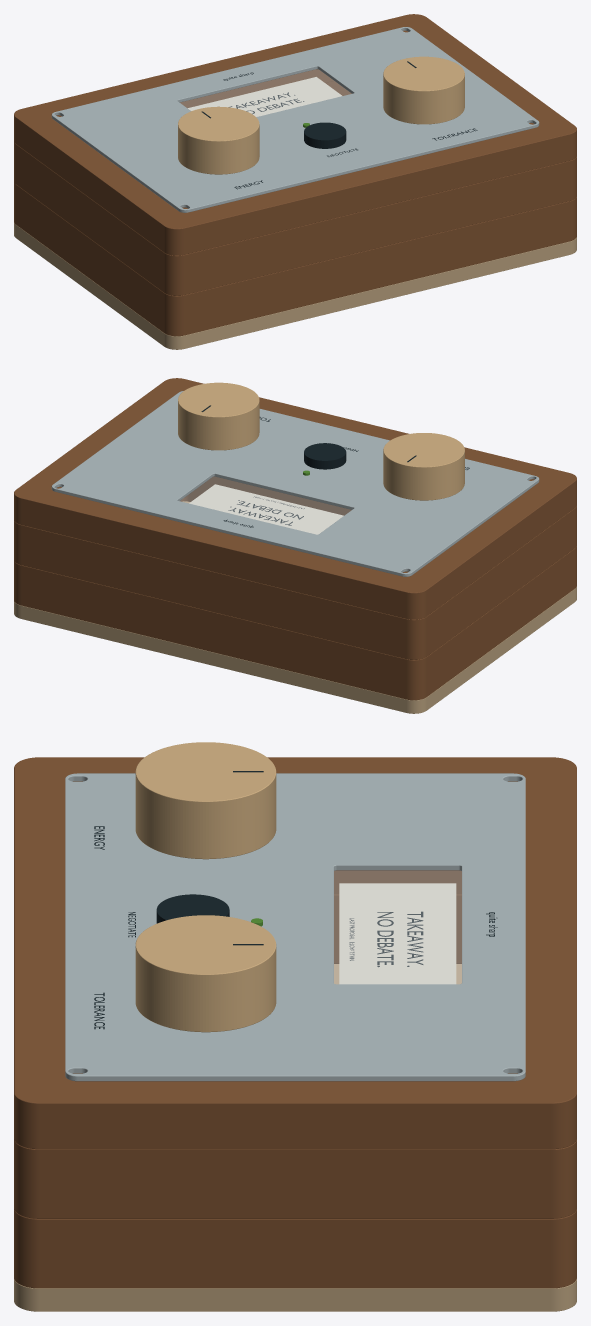
The picture shows the model from 3 angles, top to bottom: view 1: azimuth 30°, elevation 25°; view 2: azimuth 150°, elevation 25°; view 3: azimuth 270°, elevation 25°; orthographic projection. The views are drawn at different scales.
Parts seen in each view (by area): view 1: Faceplate - control bores NOT released.001, Walnut lid - 8 x 5.5 x .001, Walnut ring - upper.001, Walnut ring - lower.001, Base - plywood - 8 x 5.5 x .001, TOLERANCE - ash knob - hub fit provisional.001, ENERGY - ash knob - hub fit provisional.001, Clear window - sample fit required.001, E-paper active area - visual placeholder.001, NEGOTIATE - purchased button placeholder.001; view 2: Faceplate - control bores NOT released.001, Walnut lid - 8 x 5.5 x .001, Walnut ring - lower.001, Walnut ring - upper.001, Base - plywood - 8 x 5.5 x .001, TOLERANCE - ash knob - hub fit provisional.001, ENERGY - ash knob - hub fit provisional.001, Clear window - sample fit required.001, E-paper active area - visual placeholder.001, NEGOTIATE - purchased button placeholder.001; view 3: Faceplate - control bores NOT released.001, Walnut lid - 8 x 5.5 x .001, Walnut ring - upper.001, Walnut ring - lower.001, TOLERANCE - ash knob - hub fit provisional.001, ENERGY - ash knob - hub fit provisional.001, Clear window - sample fit required.001, Base - plywood - 8 x 5.5 x .001, E-paper active area - visual placeholder.001, NEGOTIATE - purchased button placeholder.001.
Boxes of the visible parts, bbox=[...] form: Faceplate - control bores NOT released.001: bbox=[51, 27, 539, 212]; Walnut lid - 8 x 5.5 x .001: bbox=[14, 14, 576, 255]; Walnut ring - upper.001: bbox=[14, 81, 576, 295]; Walnut ring - lower.001: bbox=[14, 182, 576, 336]; Base - plywood - 8 x 5.5 x .001: bbox=[14, 222, 576, 349]; TOLERANCE - ash knob - hub fit provisional.001: bbox=[383, 56, 464, 124]; ENERGY - ash knob - hub fit provisional.001: bbox=[178, 106, 259, 174]; Clear window - sample fit required.001: bbox=[180, 69, 351, 116]; E-paper active area - visual placeholder.001: bbox=[188, 77, 341, 116]; NEGOTIATE - purchased button placeholder.001: bbox=[304, 122, 346, 148]; Faceplate - control bores NOT released.001: bbox=[51, 391, 539, 576]; Walnut lid - 8 x 5.5 x .001: bbox=[14, 378, 576, 619]; Walnut ring - lower.001: bbox=[14, 476, 576, 700]; Walnut ring - upper.001: bbox=[14, 506, 576, 659]; Base - plywood - 8 x 5.5 x .001: bbox=[14, 501, 576, 713]; TOLERANCE - ash knob - hub fit provisional.001: bbox=[178, 382, 259, 450]; ENERGY - ash knob - hub fit provisional.001: bbox=[383, 433, 464, 500]; Clear window - sample fit required.001: bbox=[181, 477, 350, 534]; E-paper active area - visual placeholder.001: bbox=[189, 484, 343, 534]; NEGOTIATE - purchased button placeholder.001: bbox=[304, 443, 346, 469]; Faceplate - control bores NOT released.001: bbox=[65, 773, 525, 1081]; Walnut lid - 8 x 5.5 x .001: bbox=[14, 757, 576, 1149]; Walnut ring - upper.001: bbox=[14, 870, 576, 1218]; Walnut ring - lower.001: bbox=[14, 894, 576, 1288]; TOLERANCE - ash knob - hub fit provisional.001: bbox=[135, 915, 276, 1032]; ENERGY - ash knob - hub fit provisional.001: bbox=[135, 742, 276, 859]; Clear window - sample fit required.001: bbox=[334, 870, 461, 983]; Base - plywood - 8 x 5.5 x .001: bbox=[14, 964, 576, 1311]; E-paper active area - visual placeholder.001: bbox=[339, 883, 456, 984]; NEGOTIATE - purchased button placeholder.001: bbox=[156, 894, 229, 923].
Bounding box in the file's own units: 0.2032 × 0.0769 × 0.1397.
